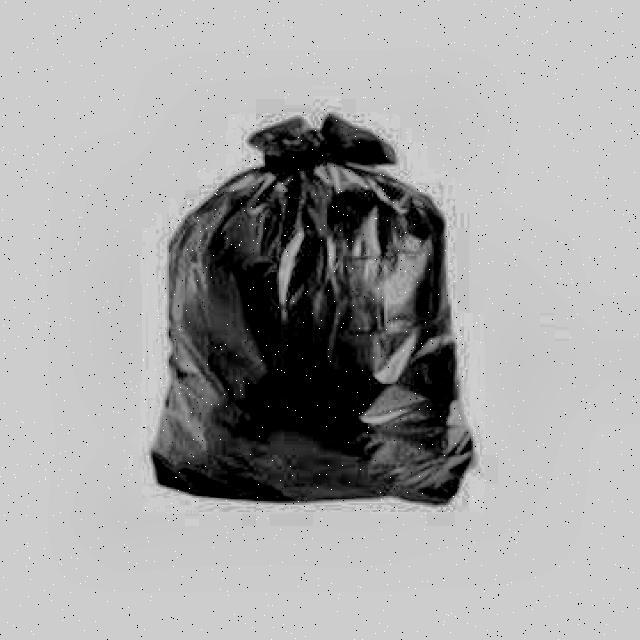Trashbag: (127, 125, 494, 506)
